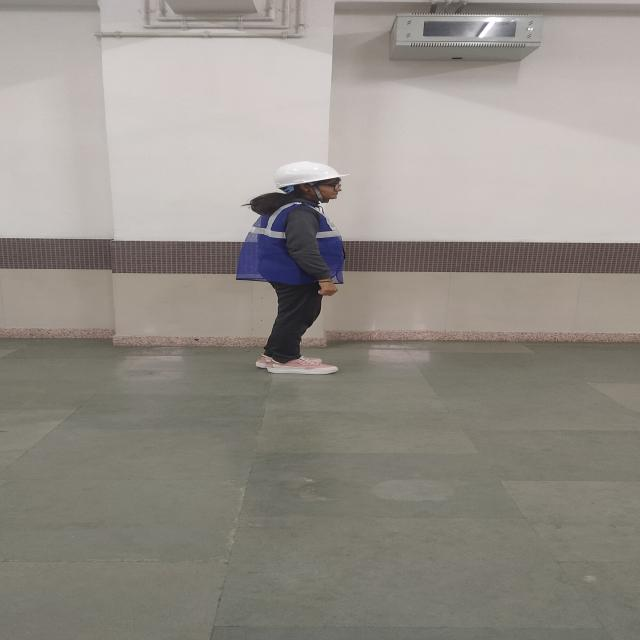safe: (237, 162, 350, 374)
